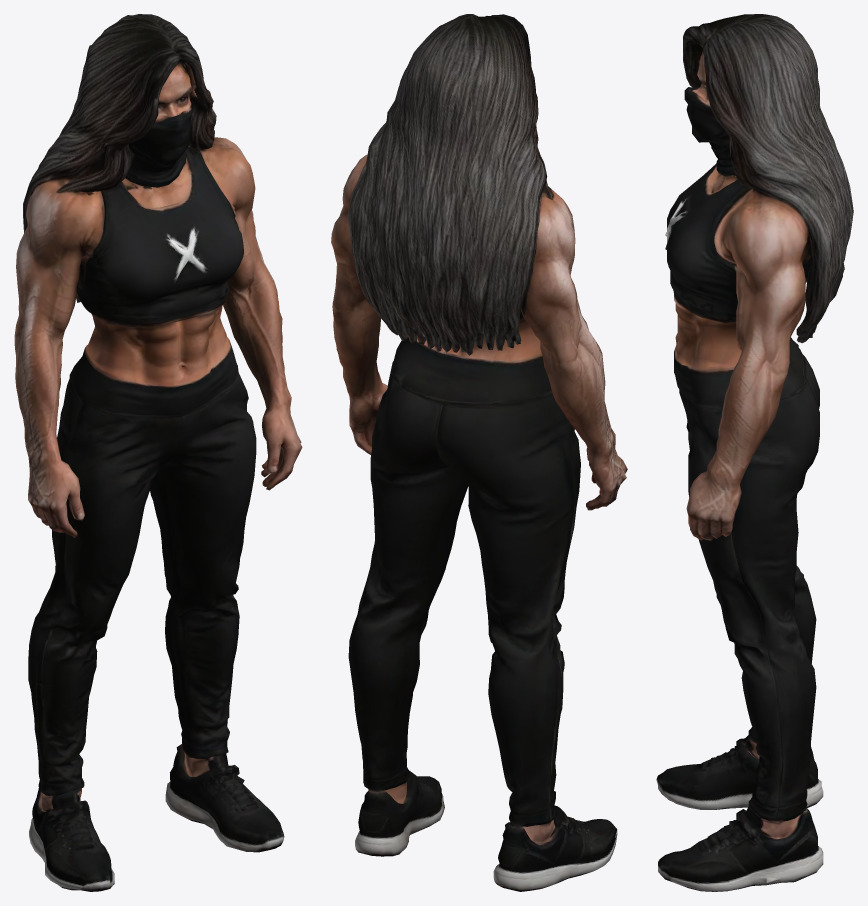
The model's file is Catalina-opt.glb.
3 views of the same model, side by side, from view 1: azimuth 30°, elevation 25°; view 2: azimuth 150°, elevation 25°; view 3: azimuth 270°, elevation 25° (orthographic).
Visible parts, largest first — view 1: tripo_node_35de7830-fcf4-479b-8be9-1ef136c81772; view 2: tripo_node_35de7830-fcf4-479b-8be9-1ef136c81772; view 3: tripo_node_35de7830-fcf4-479b-8be9-1ef136c81772.
Boxes of the visible parts, bbox=[...] form: tripo_node_35de7830-fcf4-479b-8be9-1ef136c81772: bbox=[14, 14, 302, 891]; tripo_node_35de7830-fcf4-479b-8be9-1ef136c81772: bbox=[331, 14, 627, 891]; tripo_node_35de7830-fcf4-479b-8be9-1ef136c81772: bbox=[656, 14, 853, 891].
Bounding box in the file's own units: 0.3273 × 0.9782 × 0.2124.
1 material, 1 textured.
